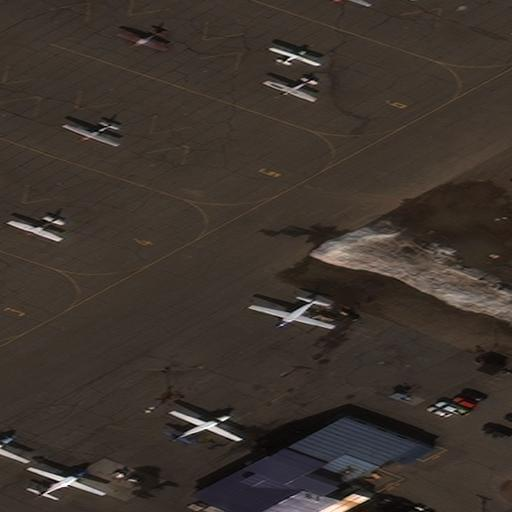Medium Civil Transport: (246, 299, 332, 329), (29, 466, 106, 498), (171, 410, 243, 441), (0, 436, 30, 462)
Small Civil Transport: (5, 217, 58, 243), (60, 123, 116, 147), (261, 78, 313, 102), (115, 32, 164, 52), (269, 47, 321, 64)
